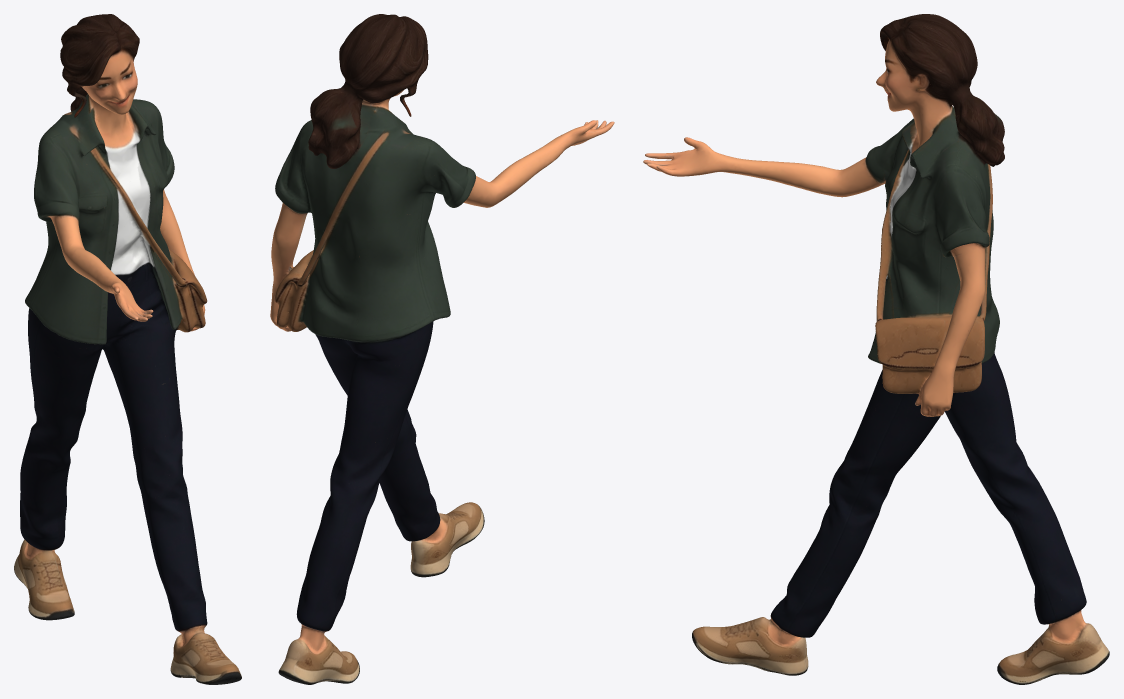
Rendered from guide_pose1.glb.
The picture shows the model from 3 angles, left to right: view 1: azimuth 30°, elevation 25°; view 2: azimuth 150°, elevation 25°; view 3: azimuth 270°, elevation 25°; orthographic projection. The views are drawn at different scales.
Bounding box in the file's own units: 0.6504 × 1.9 × 1.21.
Materials: 1 (1 with a texture image).
